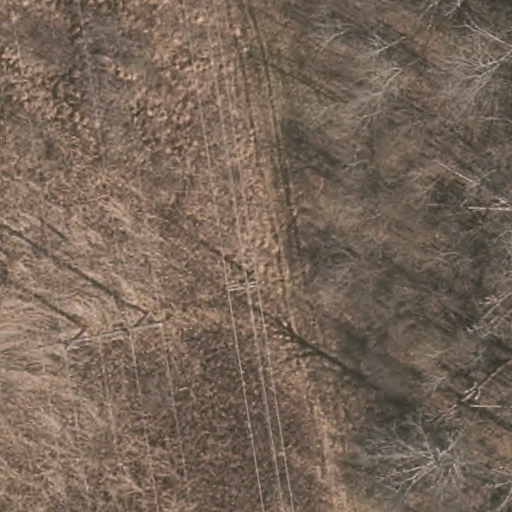DT: (41, 310, 174, 364), (218, 273, 271, 303)
